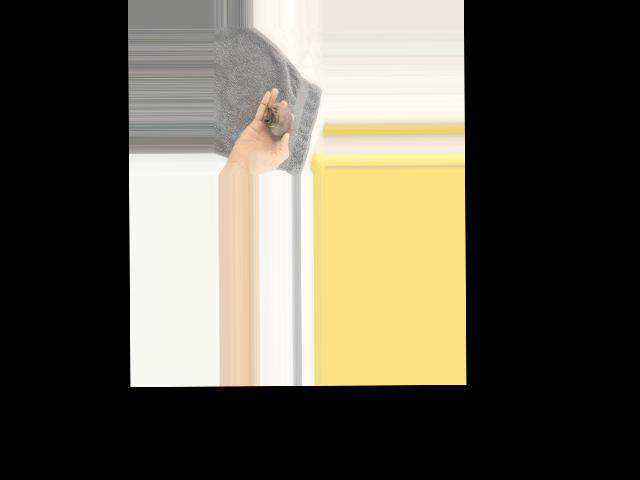beet: (262, 102, 312, 141)
